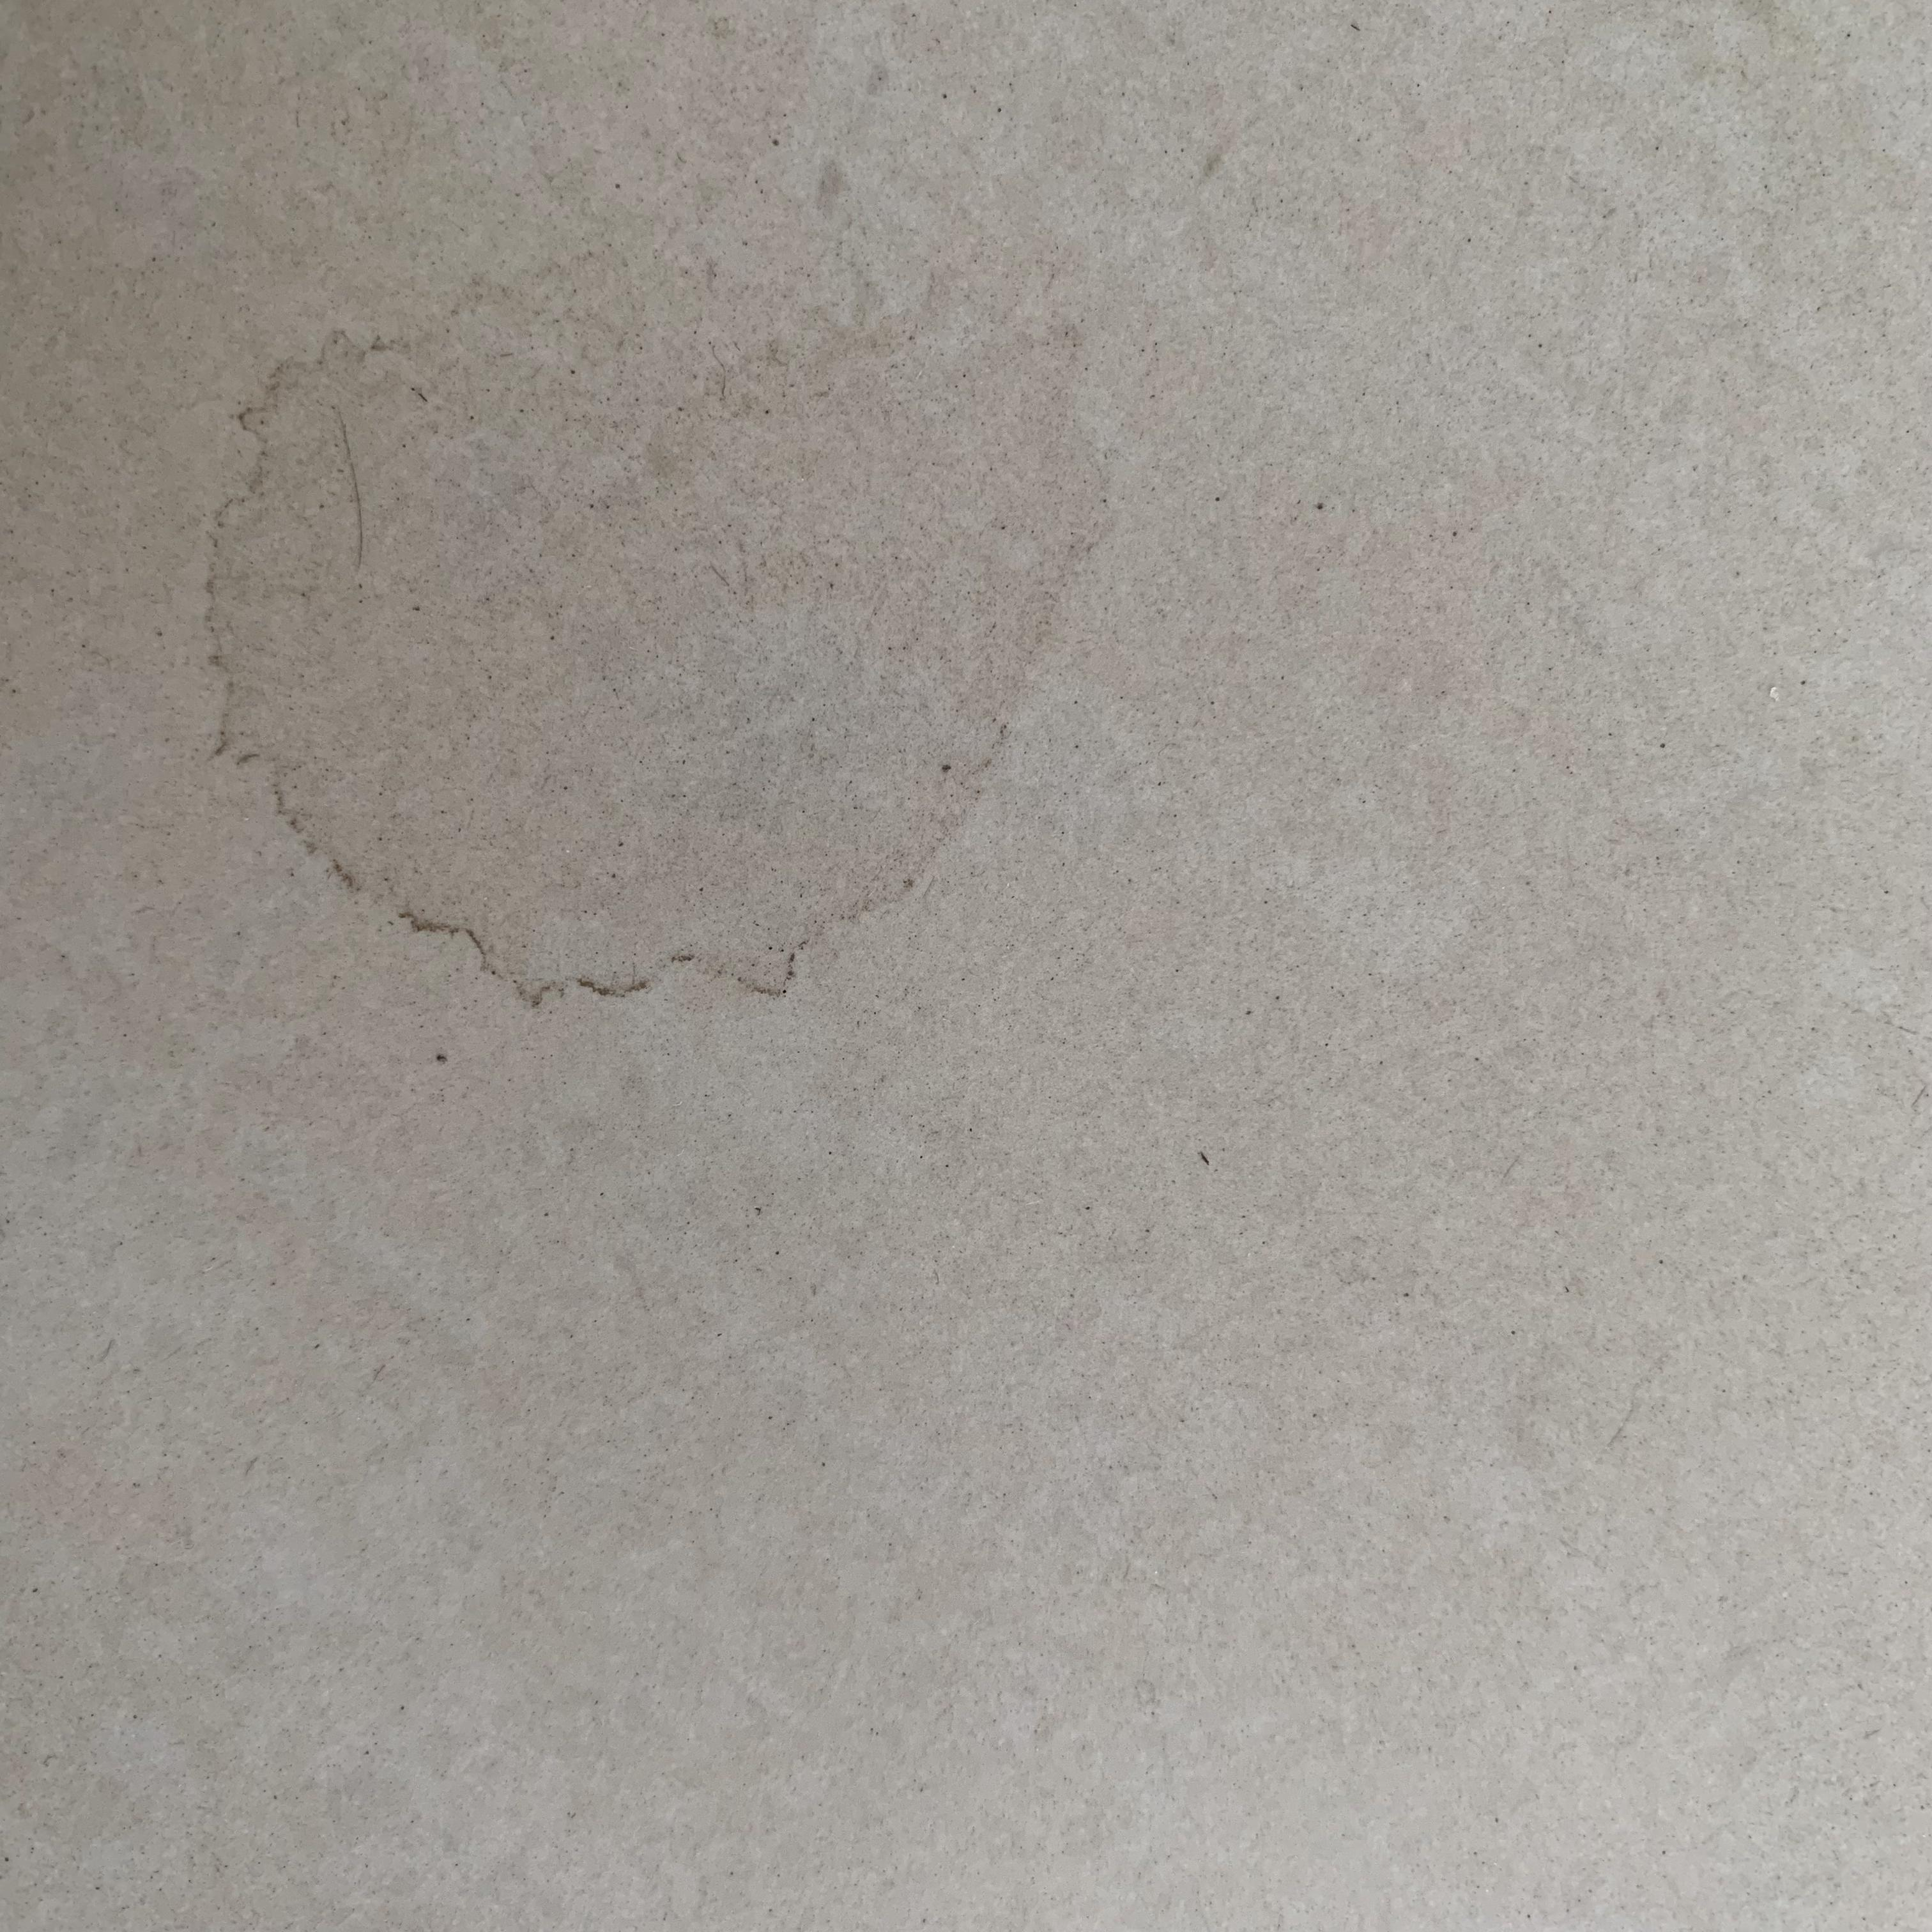grey spot: (203, 251, 1123, 1010)
